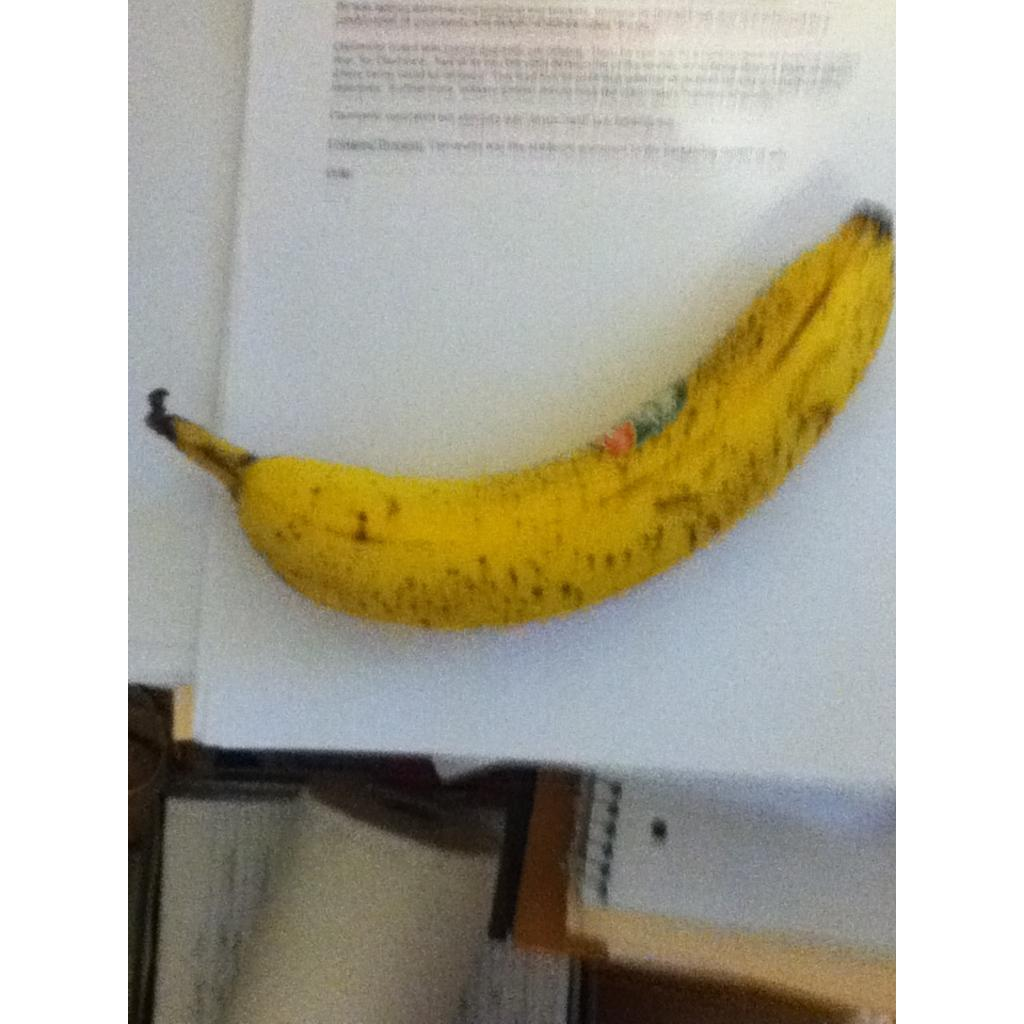banana: (148, 206, 895, 635)
